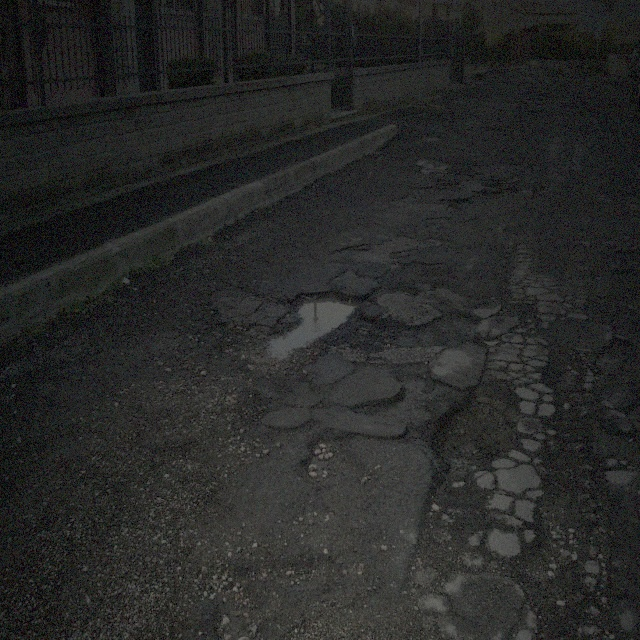pothole: (262, 279, 365, 377), (425, 390, 520, 483), (345, 386, 418, 429), (328, 237, 395, 269), (398, 258, 451, 282), (438, 192, 473, 212), (418, 163, 434, 177)
